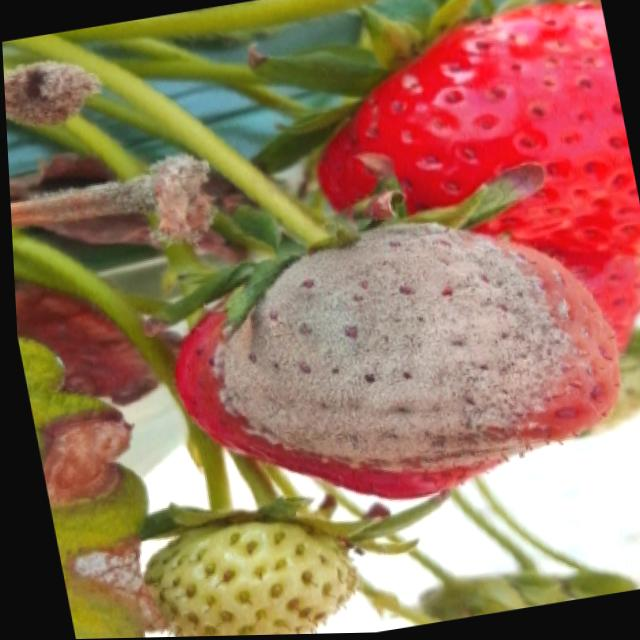Gray Mold: (179, 222, 618, 489)
